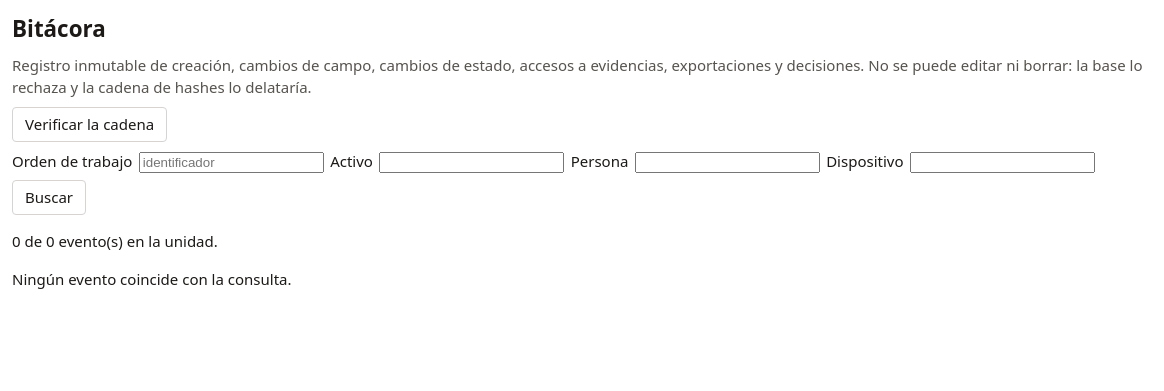
Test case: la integridad de la cadena › una cadena rota se ve rota, con el evento y el motivo
The width and height of the screenshot is (1164, 391).
Click the button "Verificar la cadena": (90, 124) x1=12 y1=107 x2=167 y2=142
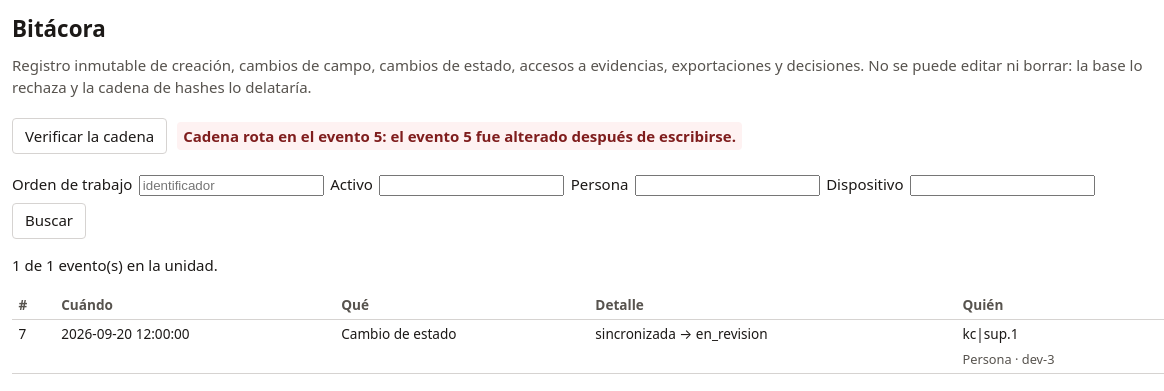
Now the text "Cadena rota en el evento 5: el evento 5 fue alterado después de escribirse." is shown, box x1=177 y1=122 x2=742 y2=150
